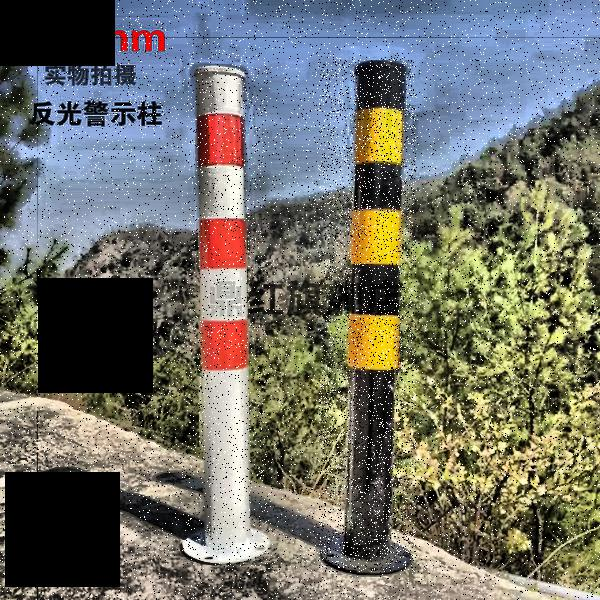bench: (319, 57, 417, 573), (188, 53, 270, 562)
